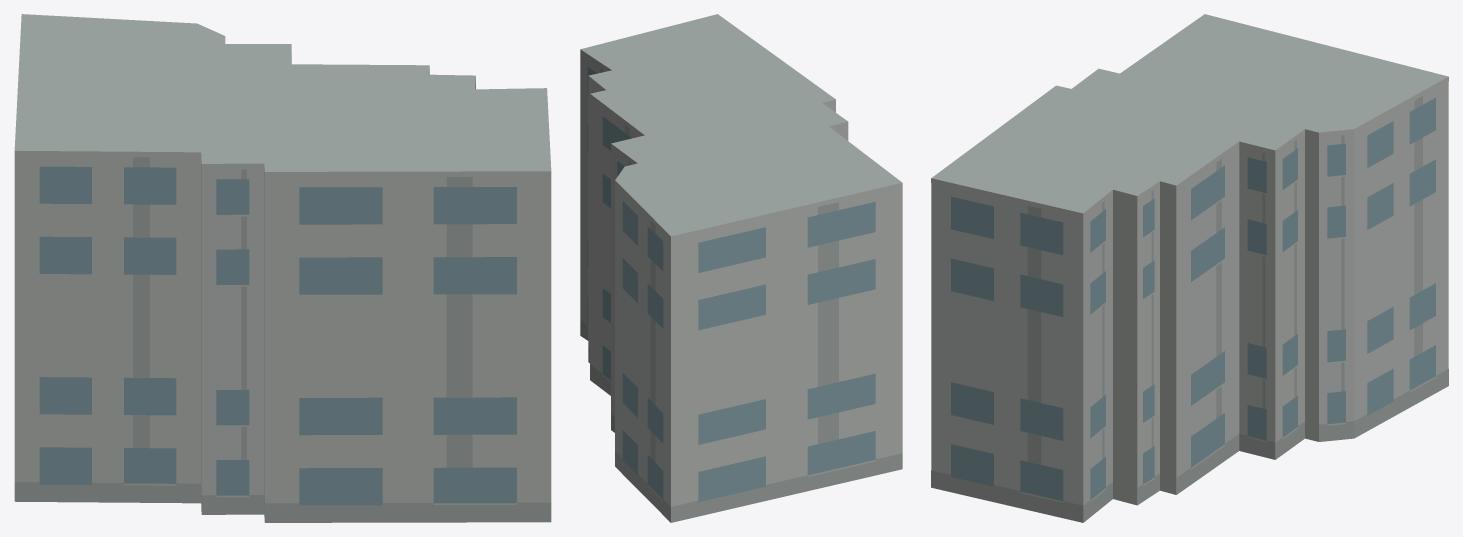
The model's file is survey-upis-32978618.glb.
3 views of the same model, side by side, from view 1: azimuth 30°, elevation 25°; view 2: azimuth 150°, elevation 25°; view 3: azimuth 270°, elevation 25° (orthographic). The views are drawn at different scales.
Visible parts, largest first — view 1: survey-upis-32978618.tmp; view 2: survey-upis-32978618.tmp; view 3: survey-upis-32978618.tmp.
Part boxes in pixels (x1,y1,x2,y2): survey-upis-32978618.tmp: (14, 14, 551, 522); survey-upis-32978618.tmp: (580, 14, 902, 522); survey-upis-32978618.tmp: (931, 14, 1448, 522).
Size of the model in its own units: 21.09 by 15.25 by 23.13.
